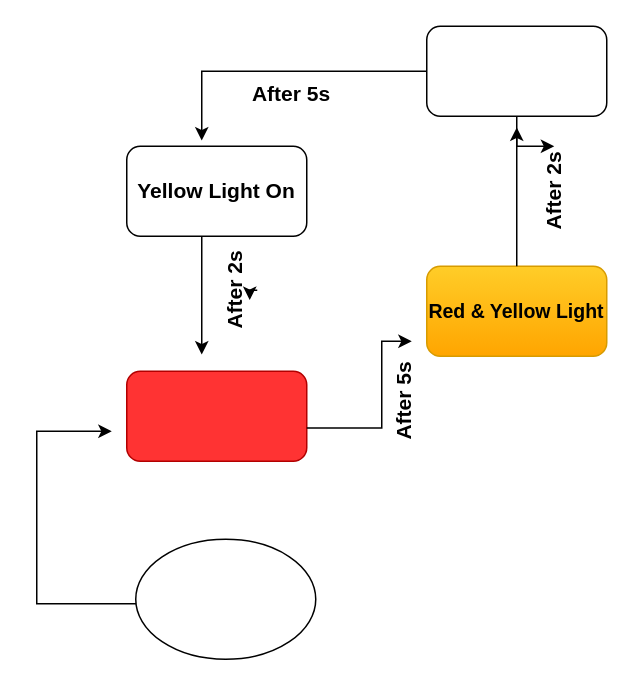
The diagram is 633 pixels wide and 686 high, and some of its shapes have lost their labels. The centre of each missing label's shape, as x and y in pixels:
"Green Light On" belongs at (x=516, y=70).
"Red Light On" belongs at (x=216, y=415).
